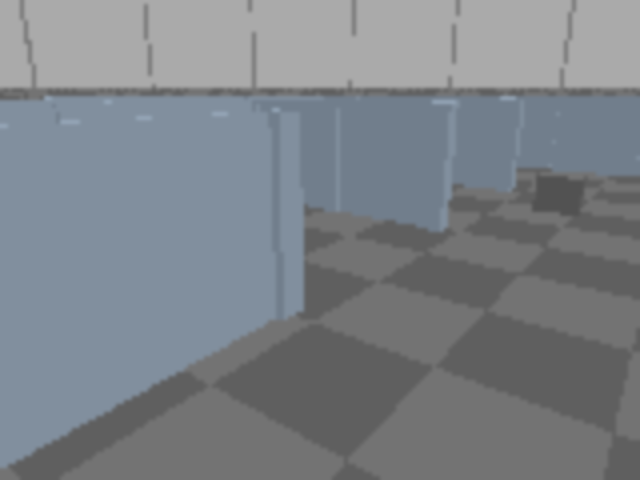obstacle: (533, 171, 588, 216)
